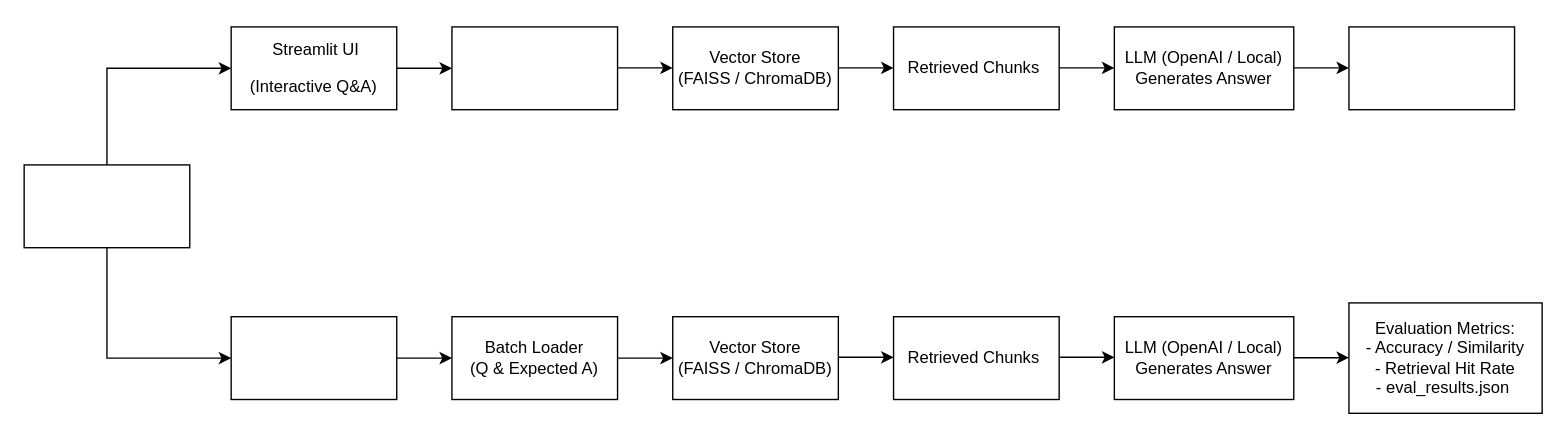
Image size: 1566x437. Some labels were removed from this diagram. The shapes that lost their labels are listed below. From the top down, each one's box as (x1, y1, x2, y2) in pixels, then its label:
(451, 26, 618, 110): Query Embedding (E5 model)
(1348, 26, 1515, 110): Answer + Sources (shown in UI)
(23, 164, 190, 248): User Input (Query / Question)
(230, 315, 397, 400): Evaluation Mode (eval.csv file)
